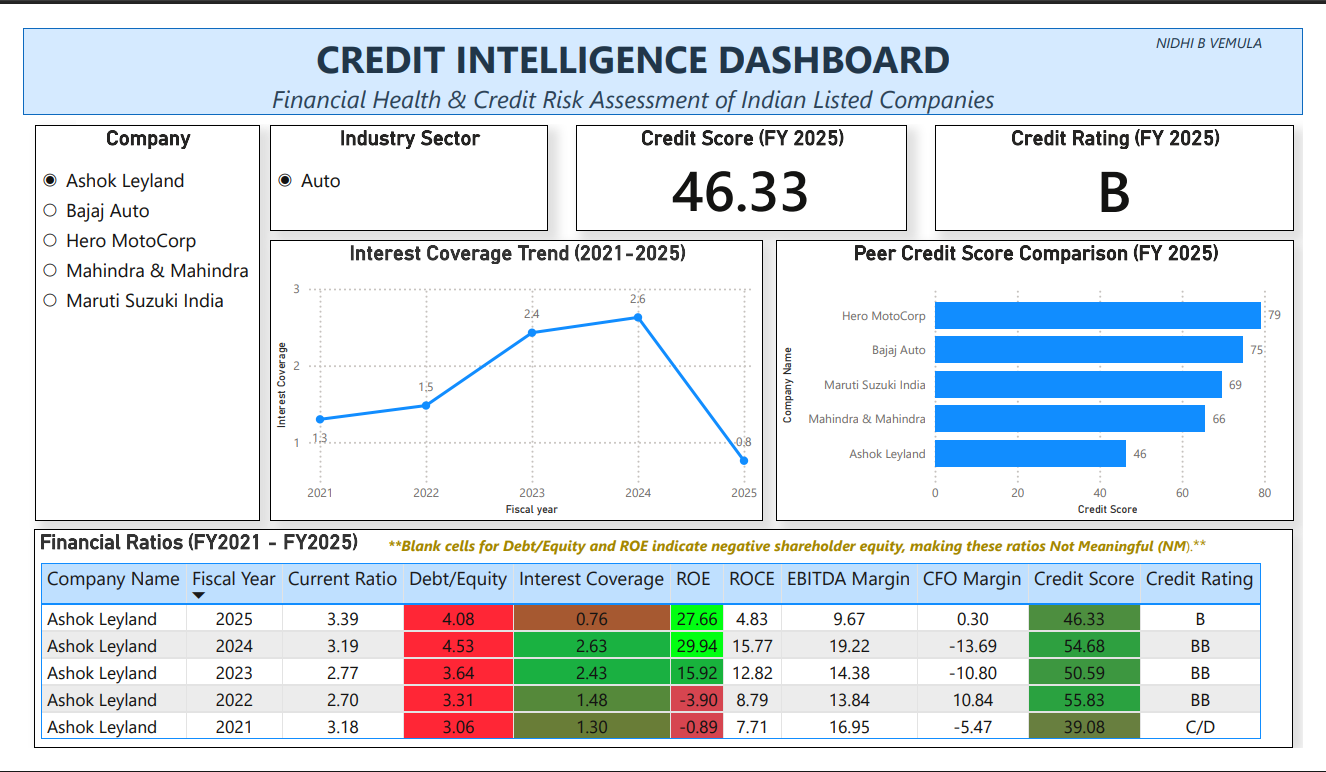

This screenshot's page, from the dashboard's own definition file:
{"tool":"powerbi","page":{"name":"Dashboard","canvas":[1280,720],"ordinal":0},"visuals":[{"type":"listSlicer","title":"Company","fields":{"Values":["dashboard_data.company_name"]},"box":[11.8,97.1,225,395.6],"z":0},{"type":"listSlicer","fields":{"Values":["dashboard_data.sector"]},"box":[247.1,97.1,277.9,105.9],"z":1000},{"type":"cardVisual","title":"Credit Score (FY 2025)","fields":{"Data":["Max(dashboard_data.credit_score)"]},"box":[552.9,97.1,330.9,105.9],"z":2000},{"type":"cardVisual","title":"Credit Rating (FY 2025)","fields":{"Data":["Max(dashboard_data.credit_rating)"]},"box":[911.8,97.1,358.8,105.9],"z":3000},{"type":"lineChart","title":"Interest Coverage Trend (2021-2025)","fields":{"Category":["dashboard_data.fiscal_year"],"Y":["Sum(dashboard_data.interest_coverage)"]},"box":[247.1,211.8,493.2,281.6],"z":4000},{"type":"clusteredBarChart","title":"Peer Credit Score Comparison (FY 2025)","fields":{"Category":["dashboard_data.company_name"],"Y":["Avg(dashboard_data.credit_score)"]},"box":[752.9,211.8,517.6,280.9],"z":5000},{"type":"tableEx","title":"Financial Ratios (FY2021 - FY2025)","fields":{"Values":["dashboard_data.company_name","dashboard_data.fiscal_year","dashboard_data.current_ratio","dashboard_data.debt_equity","dashboard_data.interest_coverage","dashboard_data.roe","dashboard_data.roce","dashboard_data.ebitda_margin","dashboard_data.cfo_margin","dashboard_data.credit_score","dashboard_data.credit_rating"]},"box":[11.3,500.8,1258.6,219.2],"z":6000},{"type":"textbox","box":[52.9,0,1115,96.4],"z":7000},{"type":"textbox","box":[360.3,501.5,877.9,33.8],"z":8000},{"type":"textbox","box":[1128.2,0,126.6,32.1],"z":9000},{"type":"shape","box":[0,0,1279.8,87.2],"z":10000}]}

Visuals, with their boxes in screenshot pixels (x1, y1, x2, y2):
"Company" listSlicer: select_region(46, 130, 268, 520)
listSlicer - dashboard_data.sector: select_region(278, 130, 552, 235)
"Credit Score (FY 2025)" cardVisual: select_region(579, 130, 905, 235)
"Credit Rating (FY 2025)" cardVisual: select_region(933, 130, 1287, 235)
"Interest Coverage Trend (2021-2025)" lineChart: select_region(278, 243, 764, 521)
"Peer Credit Score Comparison (FY 2025)" clusteredBarChart: select_region(776, 243, 1286, 520)
"Financial Ratios (FY2021 - FY2025)" tableEx: select_region(46, 528, 1286, 744)
textbox: select_region(87, 35, 1185, 130)
textbox: select_region(390, 529, 1255, 562)
textbox: select_region(1146, 35, 1271, 66)
shape: select_region(35, 35, 1296, 120)
